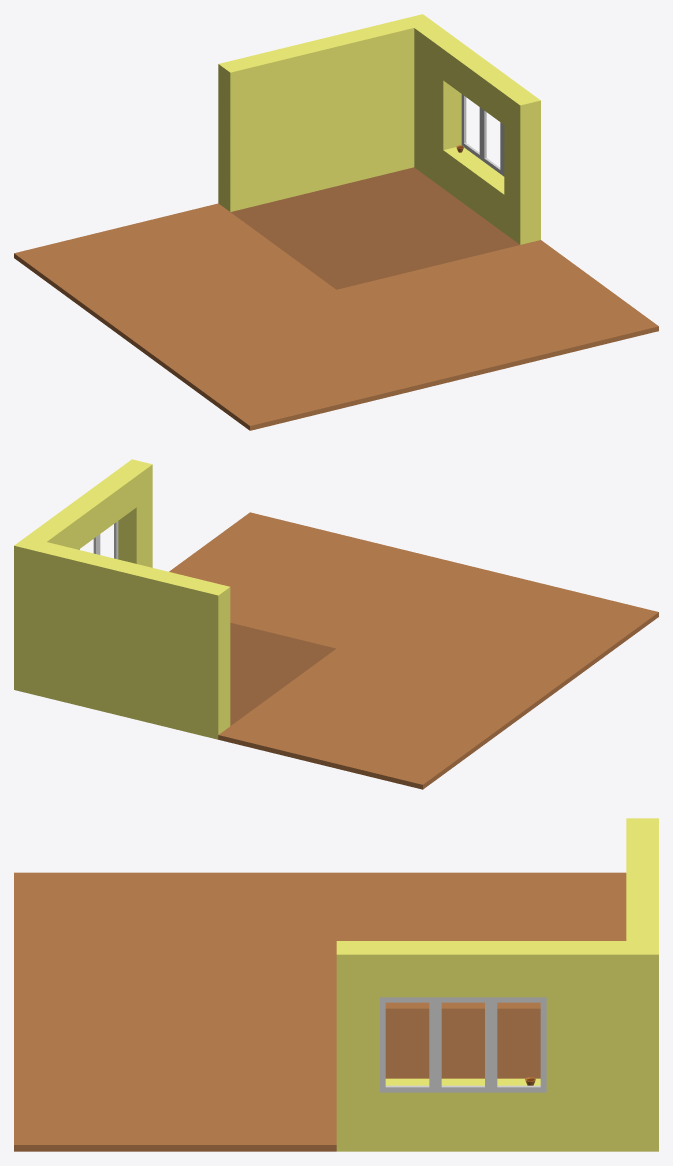
The model's file is room walls.fbx.
3 renders of one model, top to bottom at view 1: azimuth 30°, elevation 25°; view 2: azimuth 150°, elevation 25°; view 3: azimuth 270°, elevation 25°, orthographic. The views are drawn at different scales.
Parts seen in each view (by area): view 1: Floor extension, Bed wall, Floor, Window wall, Window frame; view 2: Floor extension, Bed wall, Window wall, Floor; view 3: Floor extension, Window wall, Floor, Window frame, Bed wall.
Boxes of the visible parts, x1,y1,x2,y2 form: Floor extension: (14, 203, 658, 430); Bed wall: (218, 19, 414, 211); Floor: (230, 167, 519, 289); Window wall: (402, 14, 540, 244); Window frame: (461, 94, 504, 176); Floor extension: (169, 512, 658, 789); Bed wall: (34, 542, 230, 739); Window wall: (14, 459, 152, 694); Floor: (230, 622, 335, 725); Floor extension: (14, 872, 626, 1151); Window wall: (336, 941, 658, 1151); Floor: (385, 1008, 540, 1078); Window frame: (380, 997, 546, 1092); Bed wall: (626, 818, 658, 940).
Bounding box in the file's own units: 890 × 300 × 890.
